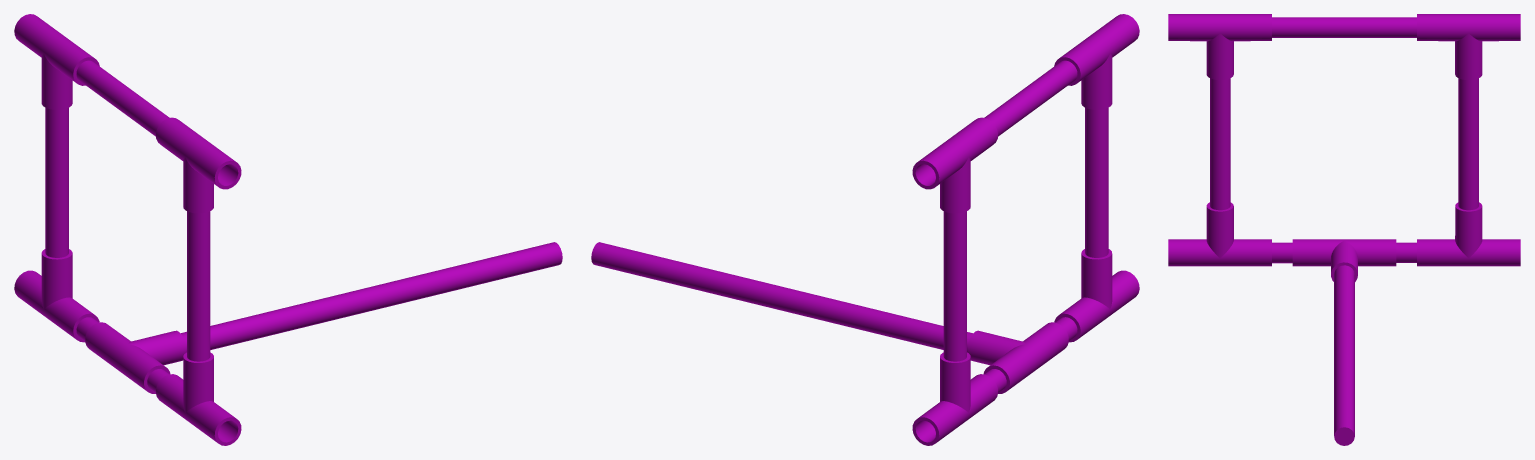
Rendered from Expose_to_sunlight_pin.obj.
3 renders of one model, left to right at view 1: azimuth 30°, elevation 25°; view 2: azimuth 150°, elevation 25°; view 3: azimuth 270°, elevation 25°, orthographic. The views are drawn at different scales.
Parts seen in each view (by area): view 1: Bryła2, Bryła9, Bryła4, Bryła10, Bryła1, Bryła7, Bryła8, Bryła6, Bryła11; view 2: Bryła2, Bryła10, Bryła6, Bryła9, Bryła1, Bryła8, Bryła7, Bryła4, Bryła11; view 3: Bryła9, Bryła10, Bryła4, Bryła6, Bryła2, Bryła11, Bryła1, Bryła7, Bryła8, Bryła3, Bryła5.
Part boxes in pixels (left/top/right/bottom): Bryła2: left=181, top=242, right=562, bottom=351; Bryła9: left=156, top=117, right=241, bottom=213; Bryła4: left=156, top=352, right=241, bottom=445; Bryła10: left=14, top=14, right=99, bottom=109; Bryła1: left=85, top=322, right=186, bottom=393; Bryła7: left=187, top=211, right=210, bottom=361; Bryła8: left=45, top=108, right=68, bottom=257; Bryła6: left=14, top=249, right=99, bottom=342; Bryła11: left=76, top=60, right=169, bottom=136; Bryła2: left=591, top=242, right=972, bottom=351; Bryła10: left=912, top=117, right=997, bottom=213; Bryła6: left=912, top=352, right=997, bottom=445; Bryła9: left=1054, top=14, right=1139, bottom=109; Bryła1: left=967, top=322, right=1068, bottom=393; Bryła8: left=943, top=211, right=966, bottom=361; Bryła7: left=1085, top=108, right=1108, bottom=257; Bryła4: left=1054, top=249, right=1139, bottom=342; Bryła11: left=984, top=60, right=1077, bottom=136; Bryła9: left=1168, top=14, right=1271, bottom=80; Bryła10: left=1417, top=14, right=1520, bottom=80; Bryła4: left=1168, top=202, right=1271, bottom=266; Bryła6: left=1417, top=202, right=1520, bottom=266; Bryła2: left=1334, top=265, right=1354, bottom=445; Bryła11: left=1272, top=17, right=1416, bottom=37; Bryła1: left=1292, top=239, right=1396, bottom=281; Bryła7: left=1210, top=78, right=1230, bottom=210; Bryła8: left=1458, top=78, right=1478, bottom=210; Bryła3: left=1272, top=242, right=1292, bottom=263; Bryła5: left=1396, top=242, right=1416, bottom=262.
Bounding box in the file's own units: 275 × 169 × 216.
